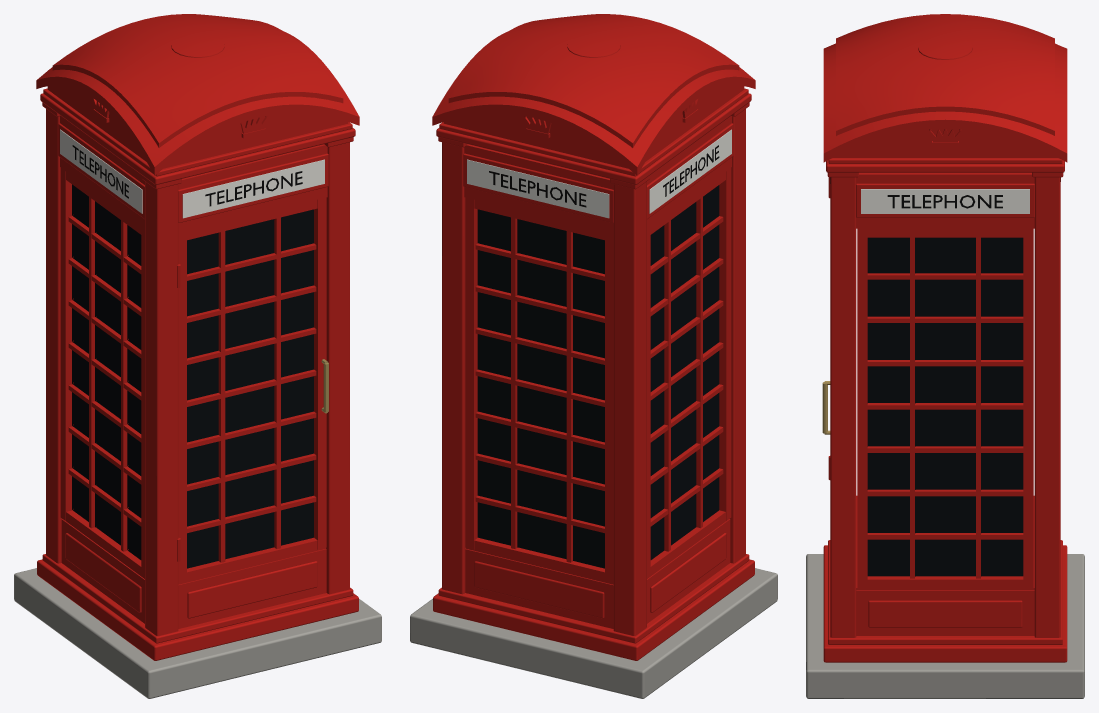
The model's file is street.furniture.phone_box_a.glb.
The picture shows the model from 3 angles, left to right: view 1: azimuth 30°, elevation 25°; view 2: azimuth 150°, elevation 25°; view 3: azimuth 270°, elevation 25°; orthographic projection. The views are drawn at different scales.
Parts seen in each view (by area): view 1: main__enamel_b21, main__glass_dark, main__concrete_a99, main__lens_eed, main__rubber; view 2: main__enamel_b21, main__glass_dark, main__concrete_a99, main__lens_eed, main__rubber; view 3: main__enamel_b21, main__glass_dark, main__concrete_a99, main__lens_eed, main__rubber.
Boxes of the visible parts, left/top/right/bottom form: main__enamel_b21: left=36, top=14, right=359, bottom=660; main__glass_dark: left=72, top=184, right=313, bottom=568; main__concrete_a99: left=14, top=568, right=381, bottom=698; main__lens_eed: left=60, top=129, right=324, bottom=218; main__rubber: left=72, top=145, right=302, bottom=206; main__enamel_b21: left=432, top=14, right=755, bottom=660; main__glass_dark: left=477, top=185, right=719, bottom=568; main__concrete_a99: left=410, top=568, right=777, bottom=698; main__lens_eed: left=467, top=129, right=731, bottom=218; main__rubber: left=489, top=145, right=719, bottom=207; main__enamel_b21: left=823, top=14, right=1067, bottom=662; main__glass_dark: left=867, top=237, right=1023, bottom=576; main__concrete_a99: left=806, top=554, right=1084, bottom=698; main__lens_eed: left=861, top=189, right=1029, bottom=213; main__rubber: left=830, top=177, right=1060, bottom=208.
Size of the model in its own units: 1.12 by 2.64 by 1.12.
